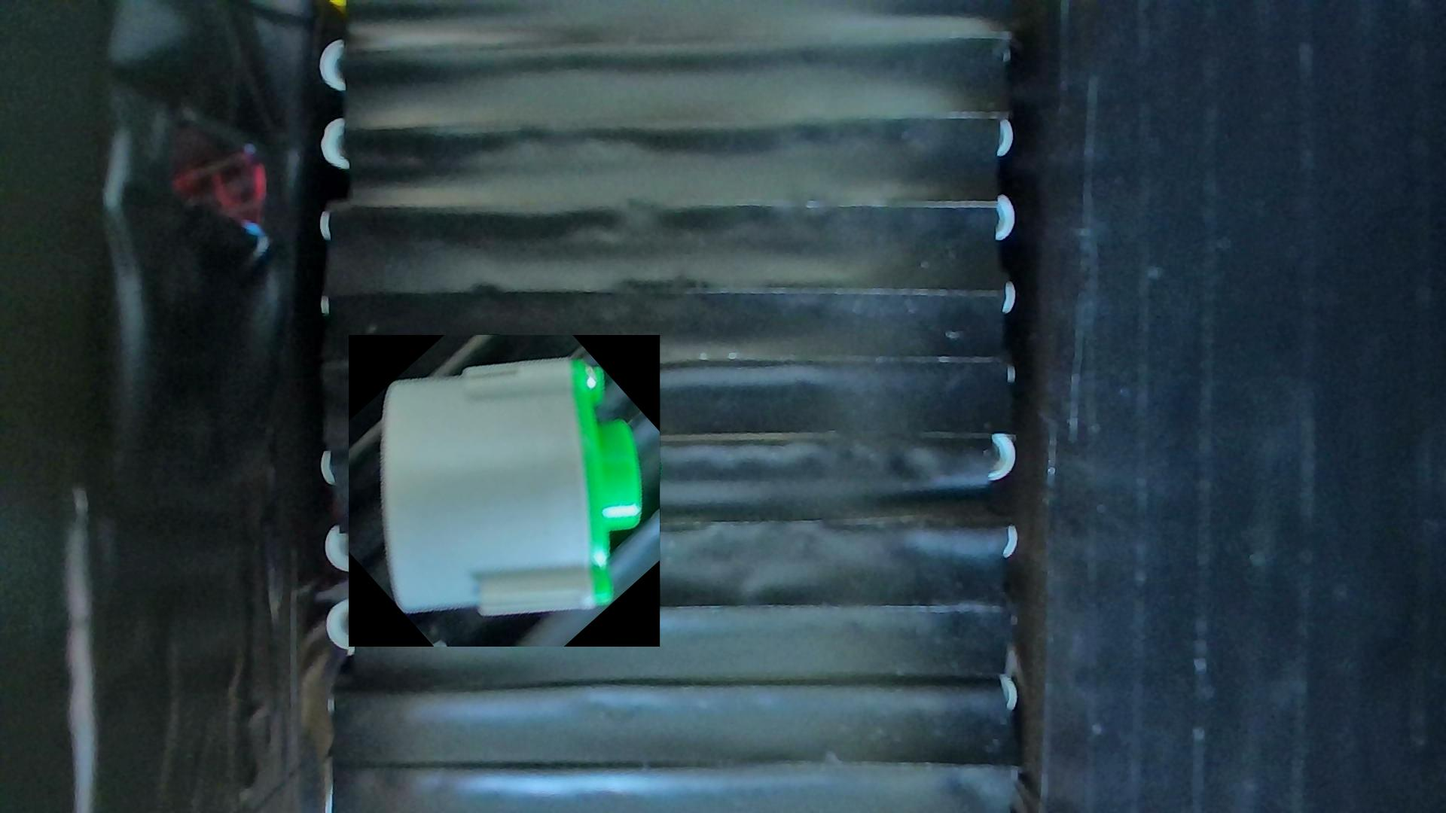cartridge: (349, 335, 661, 647)
